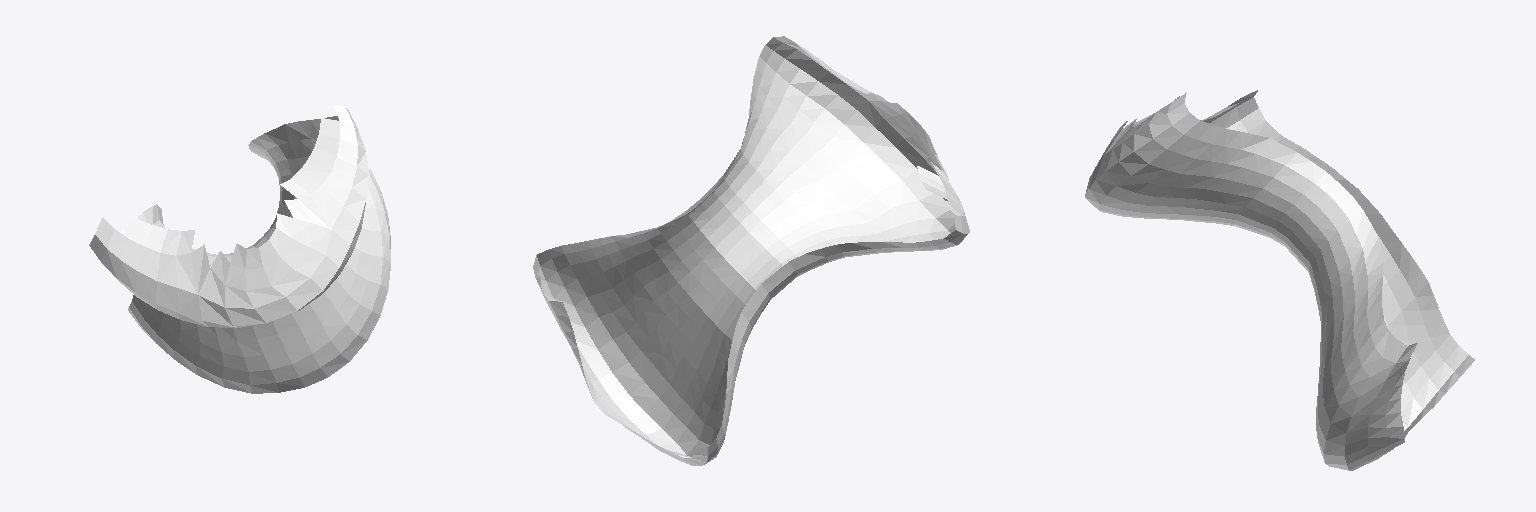
The model's file is Last_ex_2_Remeshed.obj.
3 views of the same model, side by side, from view 1: azimuth 30°, elevation 25°; view 2: azimuth 150°, elevation 25°; view 3: azimuth 270°, elevation 25° (orthographic).
Parts seen in each view (by area): view 1: Last_ex_2_Remeshed; view 2: Last_ex_2_Remeshed; view 3: Last_ex_2_Remeshed.
Boxes of the visible parts, <box> form: Last_ex_2_Remeshed: <box>89,105,390,393</box>; Last_ex_2_Remeshed: <box>533,36,969,465</box>; Last_ex_2_Remeshed: <box>1085,90,1474,470</box>.
Bounding box in the file's own units: 2.23 × 2.14 × 2.13.